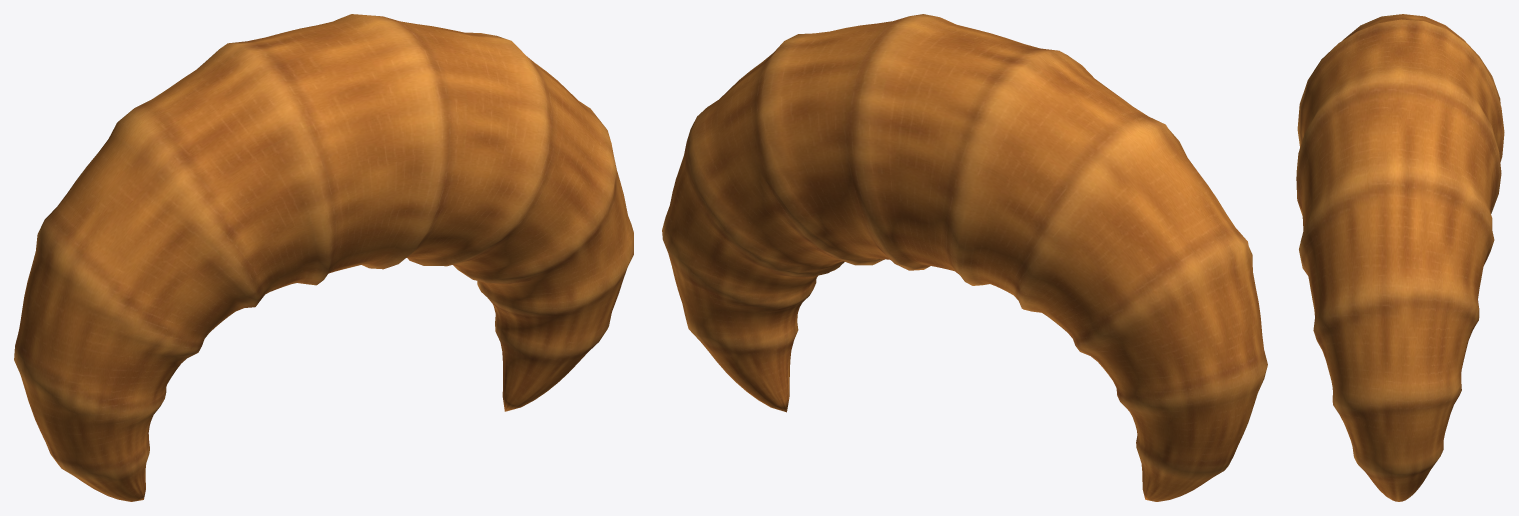
Rendered from croissant.glb.
The picture shows the model from 3 angles, left to right: view 1: azimuth 30°, elevation 25°; view 2: azimuth 150°, elevation 25°; view 3: azimuth 270°, elevation 25°; orthographic projection. The views are drawn at different scales.
Parts seen in each view (by area): view 1: croissant; view 2: croissant; view 3: croissant.
Boxes of the visible parts, left/top/right/bottom form: croissant: left=14, top=14, right=633, bottom=501; croissant: left=662, top=14, right=1267, bottom=501; croissant: left=1296, top=14, right=1504, bottom=501.
Size of the model in its own units: 1.47 by 0.9903 by 0.5047.
1 material, 1 textured.
